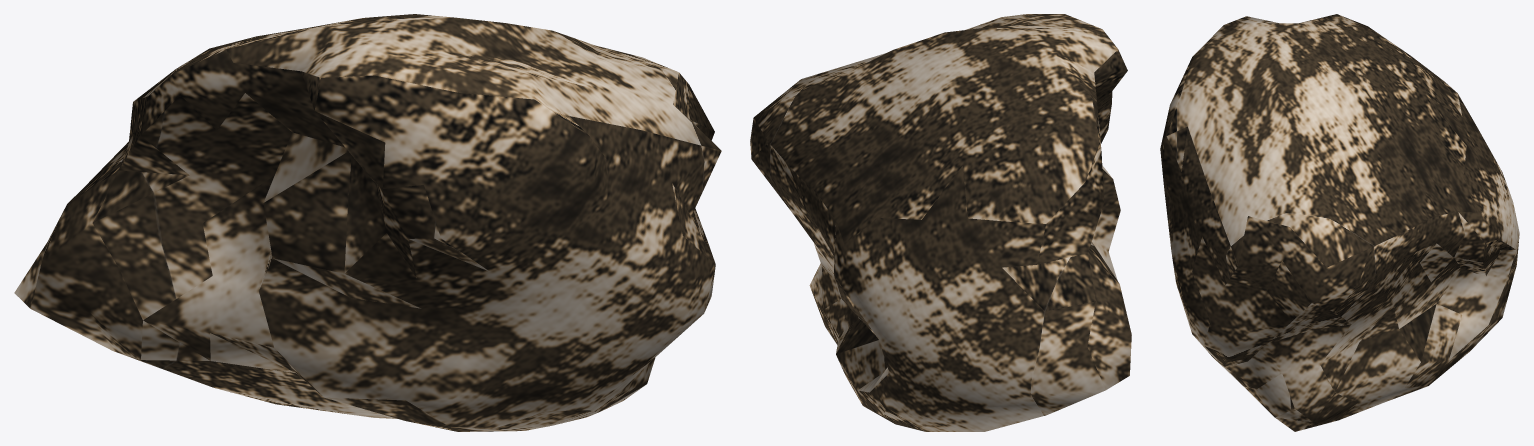
Rendered from asteroidEasy.FBX.
The picture shows the model from 3 angles, left to right: view 1: azimuth 30°, elevation 25°; view 2: azimuth 150°, elevation 25°; view 3: azimuth 270°, elevation 25°; orthographic projection. The views are drawn at different scales.
Parts seen in each view (by area): view 1: GeoSphere01; view 2: GeoSphere01; view 3: GeoSphere01.
Boxes of the visible parts, bbox=[...] form: GeoSphere01: bbox=[14, 14, 721, 431]; GeoSphere01: bbox=[750, 14, 1131, 431]; GeoSphere01: bbox=[1160, 14, 1519, 431].
Size of the model in its own units: 136 by 100 by 102.
Materials: 1 (1 with a texture image).
